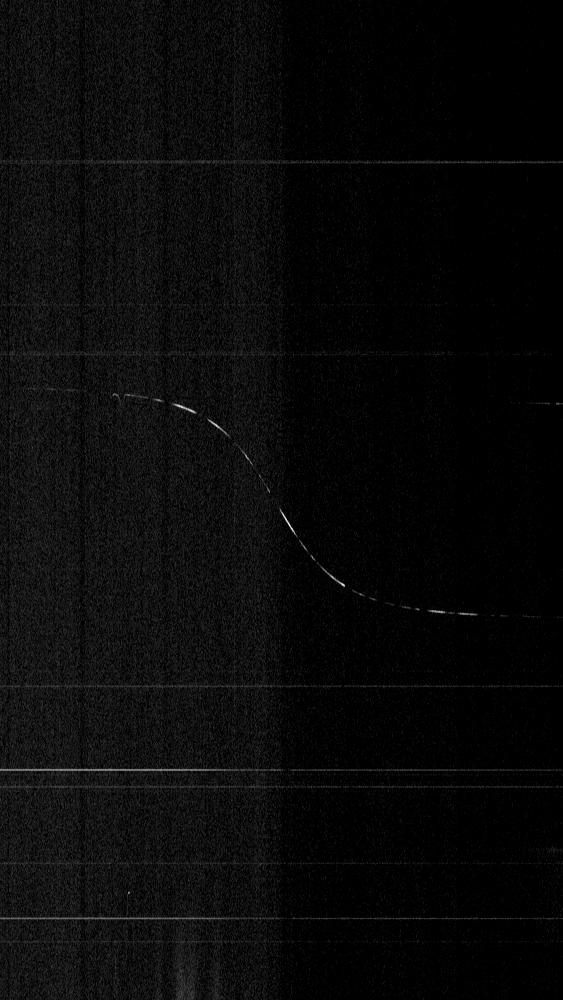signal: (0, 0, 562, 999)
